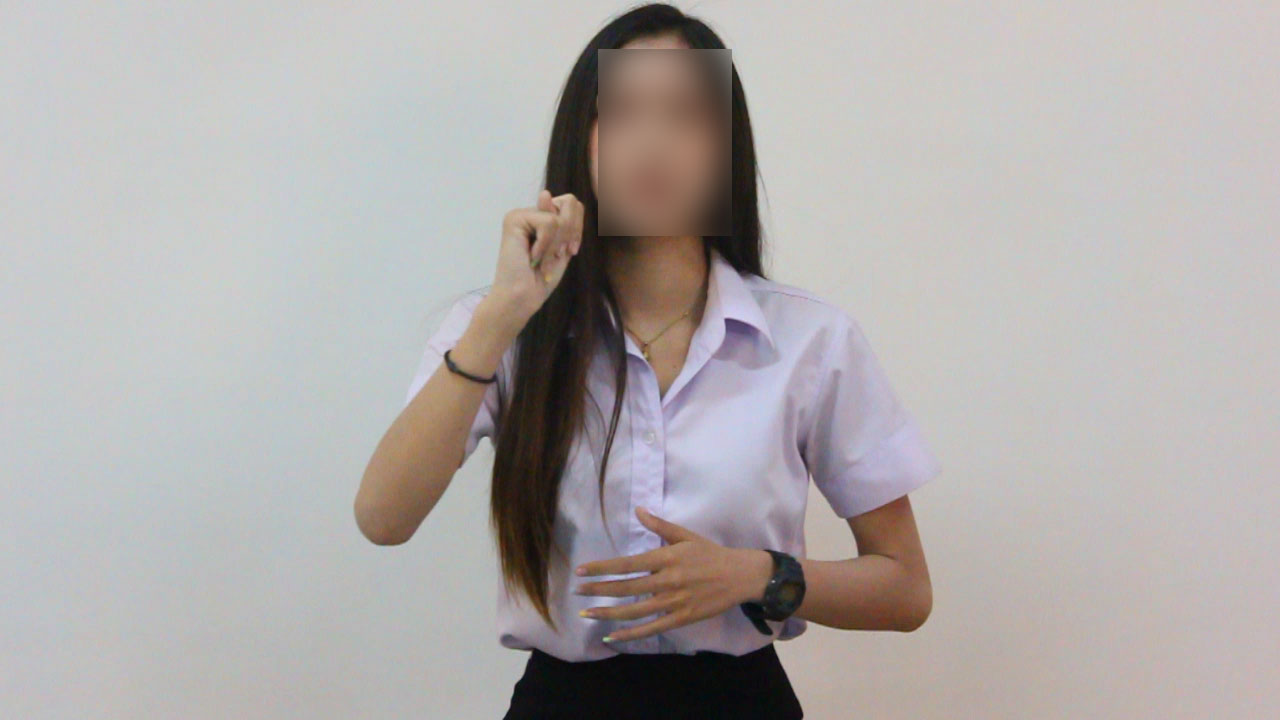nor: (467, 182, 595, 311)
